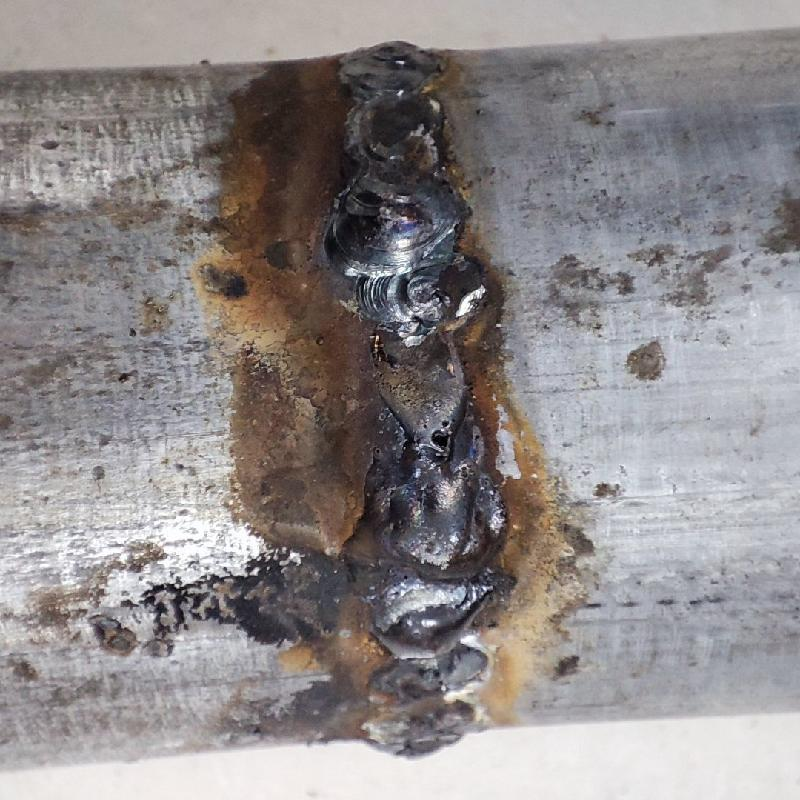Not_fully_soldered: (348, 272, 479, 456), (358, 648, 493, 760)
Surface_pores: (413, 414, 465, 455)
Weld: (346, 455, 518, 662)
wrong_size: (323, 32, 470, 272)
